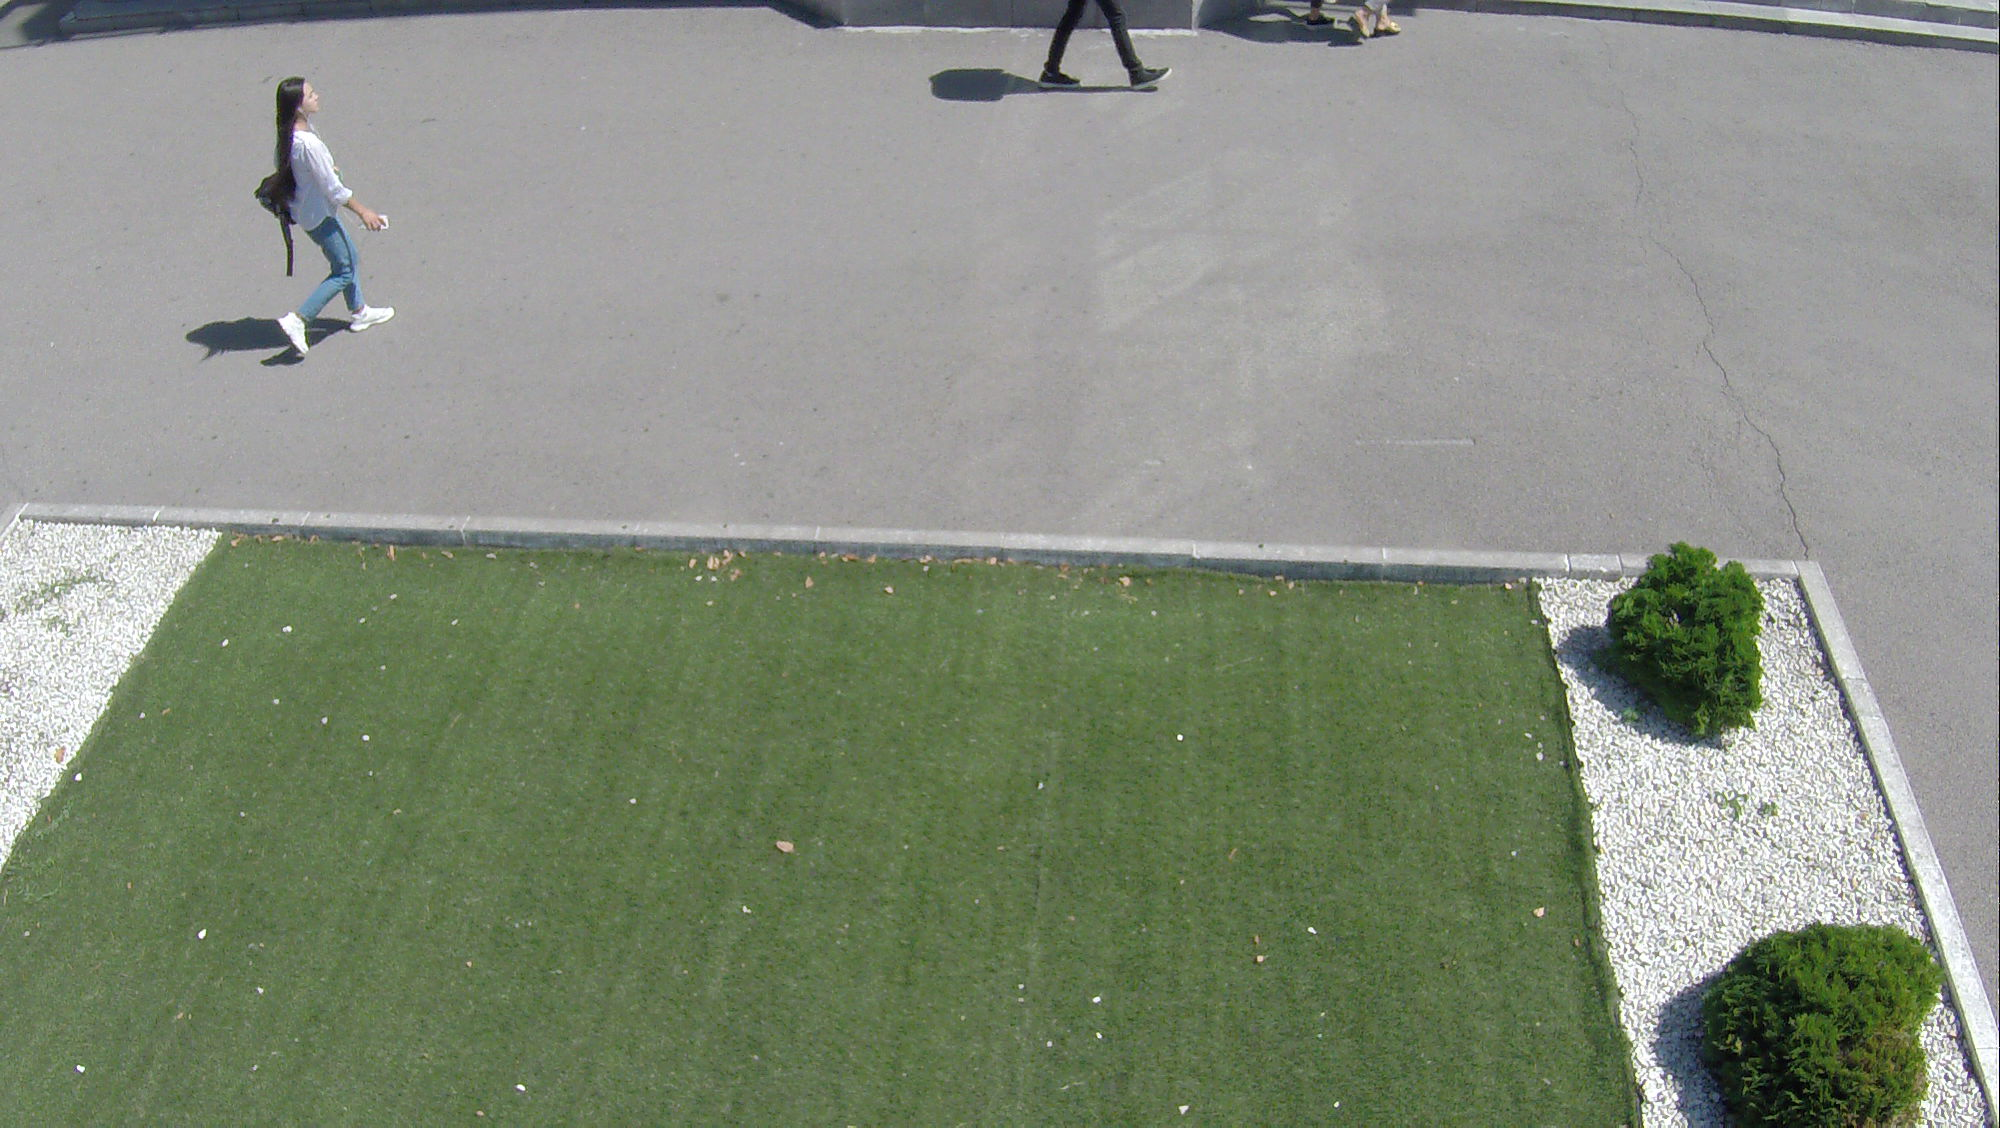person: (212, 64, 405, 370)
